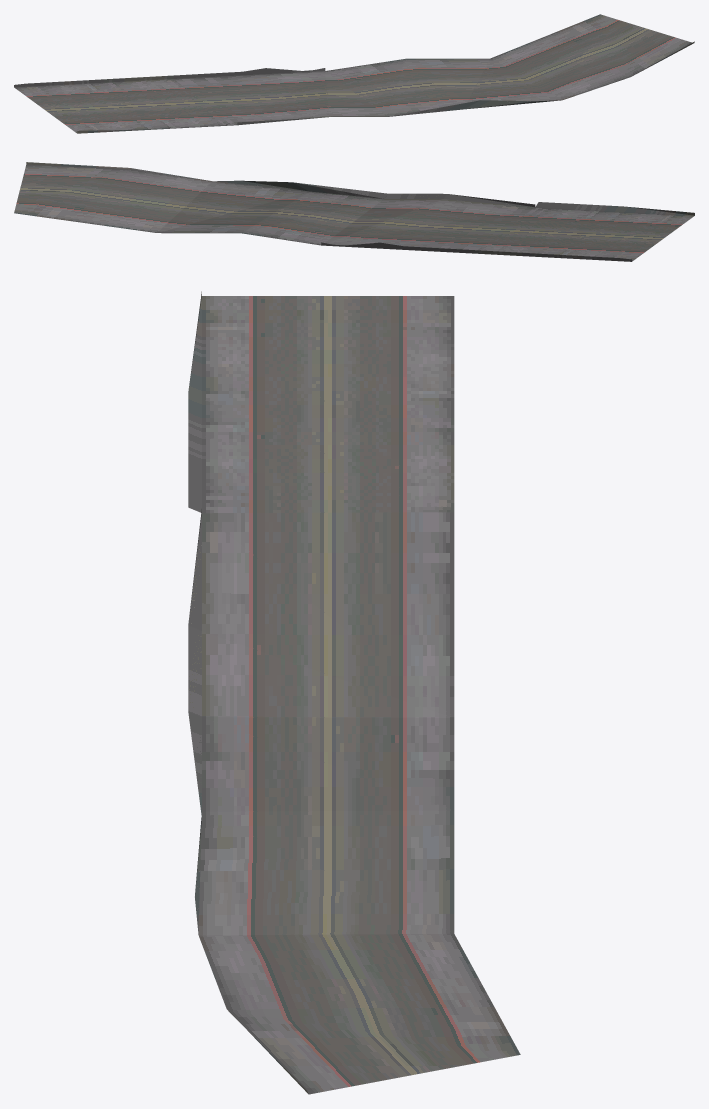
File: lodroads_sfw30.obj
The picture shows the model from 3 angles, top to bottom: view 1: azimuth 30°, elevation 25°; view 2: azimuth 150°, elevation 25°; view 3: azimuth 270°, elevation 25°; orthographic projection. The views are drawn at different scales.
Visible parts, largest first — view 1: LODroads_sfw30; view 2: LODroads_sfw30; view 3: LODroads_sfw30.
Part boxes in pixels (bbox=[...]): LODroads_sfw30: bbox=[14, 14, 694, 133]; LODroads_sfw30: bbox=[14, 162, 694, 261]; LODroads_sfw30: bbox=[188, 291, 520, 1094].
Size of the model in its own units: 161 by 21.52 by 36.04.
Materials: 2 (2 with a texture image).
